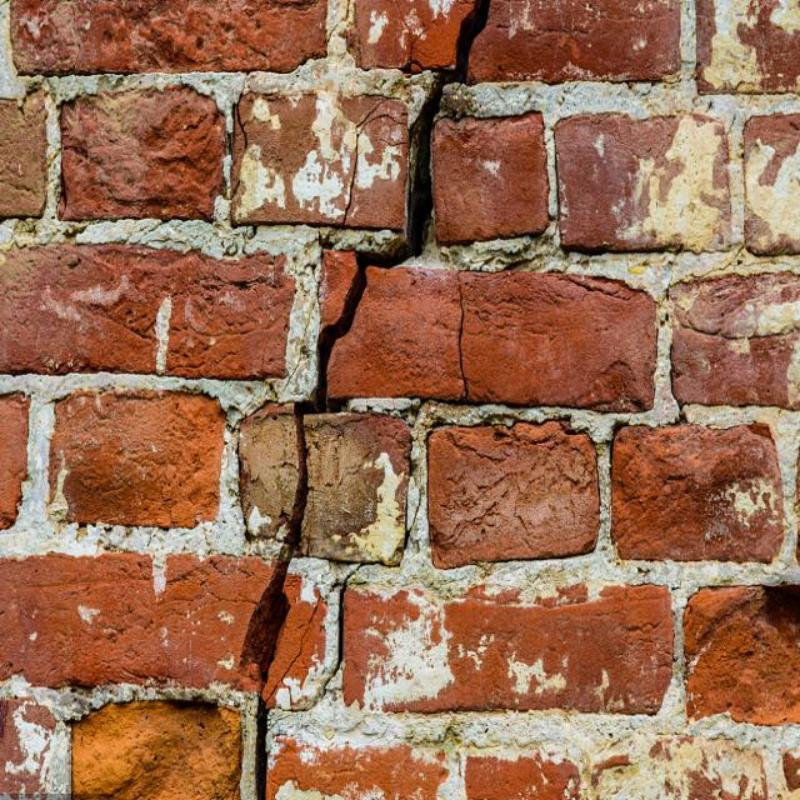pothole: (241, 0, 490, 691), (343, 97, 408, 226), (282, 584, 346, 712), (264, 591, 320, 705), (455, 270, 469, 403), (404, 465, 422, 551), (341, 562, 397, 584), (256, 696, 267, 799), (237, 105, 247, 151)
